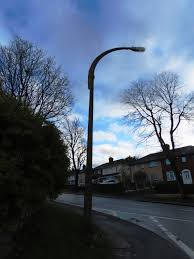light_pole: (74, 46, 107, 223)
